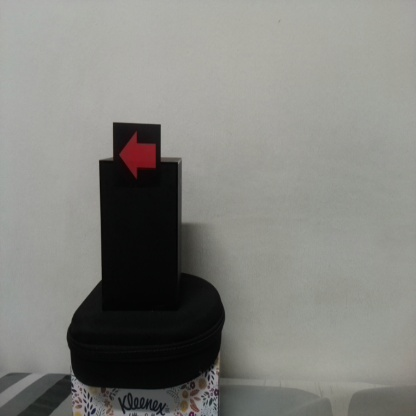id_4: (113, 123, 161, 190)
